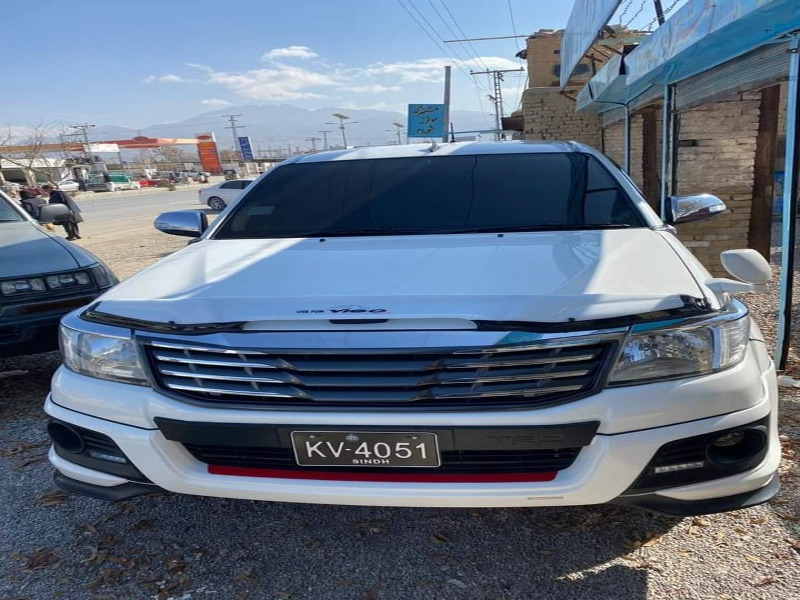License Plate: (286, 422, 445, 473)
